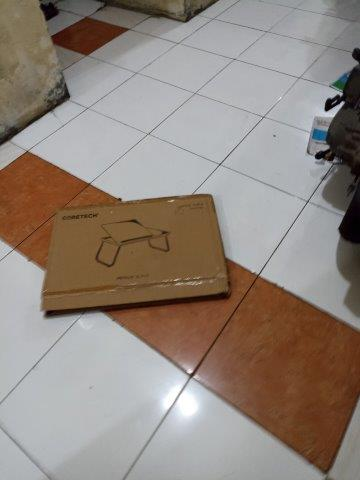kardus: (41, 196, 228, 308)
